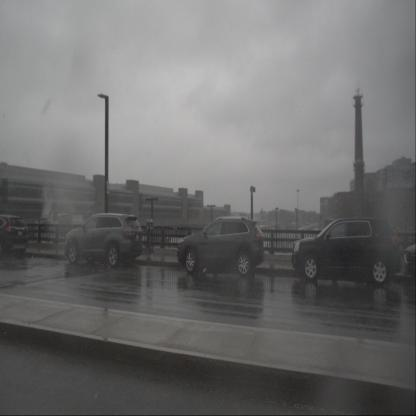vehicle-car: (291, 218, 401, 286), (177, 216, 265, 278), (64, 212, 142, 267), (0, 214, 28, 258)
